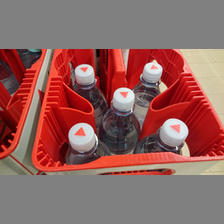water: (100, 88, 140, 152), (60, 118, 113, 161), (134, 115, 186, 154), (71, 63, 108, 116), (129, 59, 159, 116)
